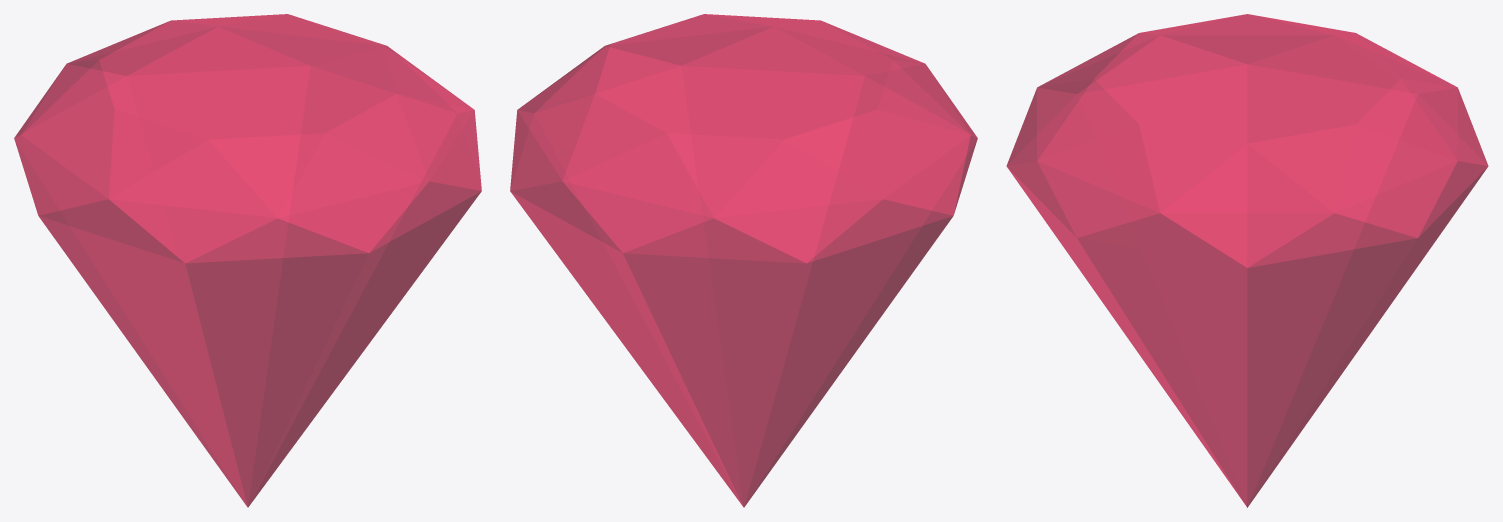
Rendered from jewel.glb.
The picture shows the model from 3 angles, left to right: view 1: azimuth 30°, elevation 25°; view 2: azimuth 150°, elevation 25°; view 3: azimuth 270°, elevation 25°; orthographic projection.
Parts seen in each view (by area): view 1: Cone; view 2: Cone; view 3: Cone.
Part boxes in pixels (x1,y1,x2,y2): Cone: (14, 14, 481, 507); Cone: (510, 14, 977, 507); Cone: (1006, 14, 1488, 507).
Size of the model in its own units: 1.91 by 1.87 by 1.91.
